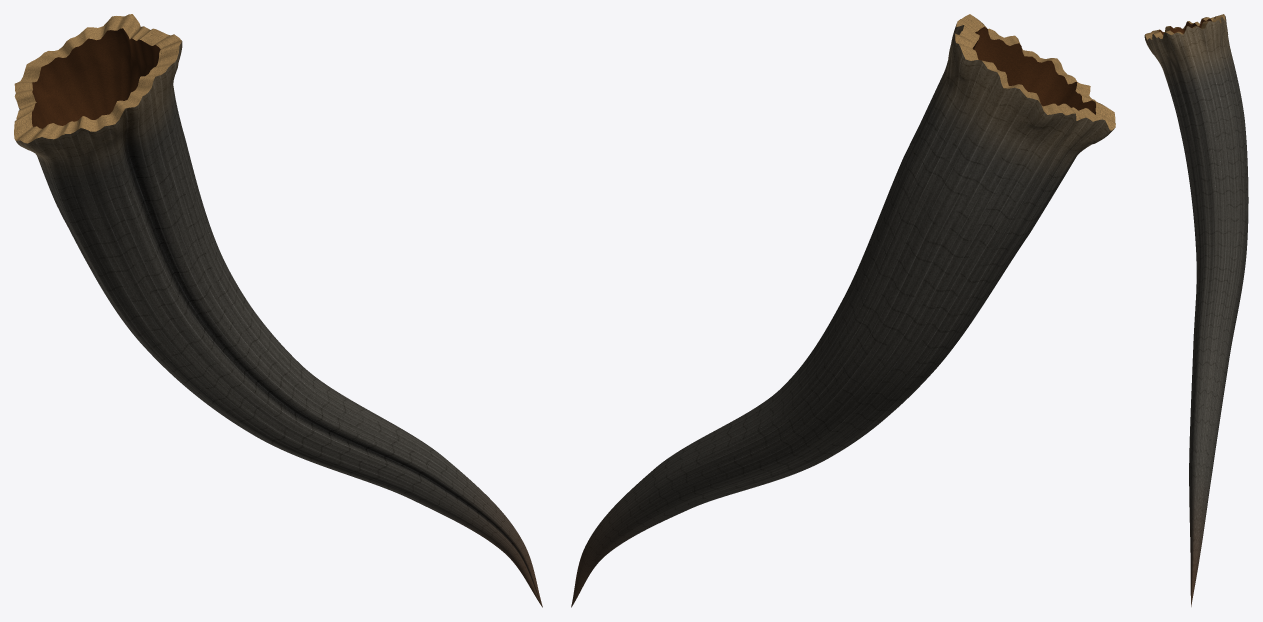
The model's file is kiln_fang.glb.
3 views of the same model, side by side, from view 1: azimuth 30°, elevation 25°; view 2: azimuth 150°, elevation 25°; view 3: azimuth 270°, elevation 25° (orthographic). The views are drawn at different scales.
Visible parts, largest first — view 1: kiln_fang natural keratin, kiln_fang porous root interior, kiln_fang exposed chipped root; view 2: kiln_fang natural keratin, kiln_fang porous root interior, kiln_fang exposed chipped root; view 3: kiln_fang natural keratin, kiln_fang exposed chipped root, kiln_fang porous root interior.
Boxes of the visible parts, x1,y1,x2,y2 form: kiln_fang natural keratin: (15, 41, 542, 607); kiln_fang porous root interior: (32, 28, 160, 128); kiln_fang exposed chipped root: (14, 14, 181, 143); kiln_fang natural keratin: (571, 23, 1115, 607); kiln_fang porous root interior: (972, 26, 1095, 114); kiln_fang exposed chipped root: (955, 14, 1115, 130); kiln_fang natural keratin: (1144, 16, 1248, 606); kiln_fang exposed chipped root: (1145, 14, 1225, 39); kiln_fang porous root interior: (1158, 17, 1215, 35).
Bounding box in the file's own units: 0.3939 × 0.4789 × 0.0988.
Materials: 3 (3 with a texture image).
